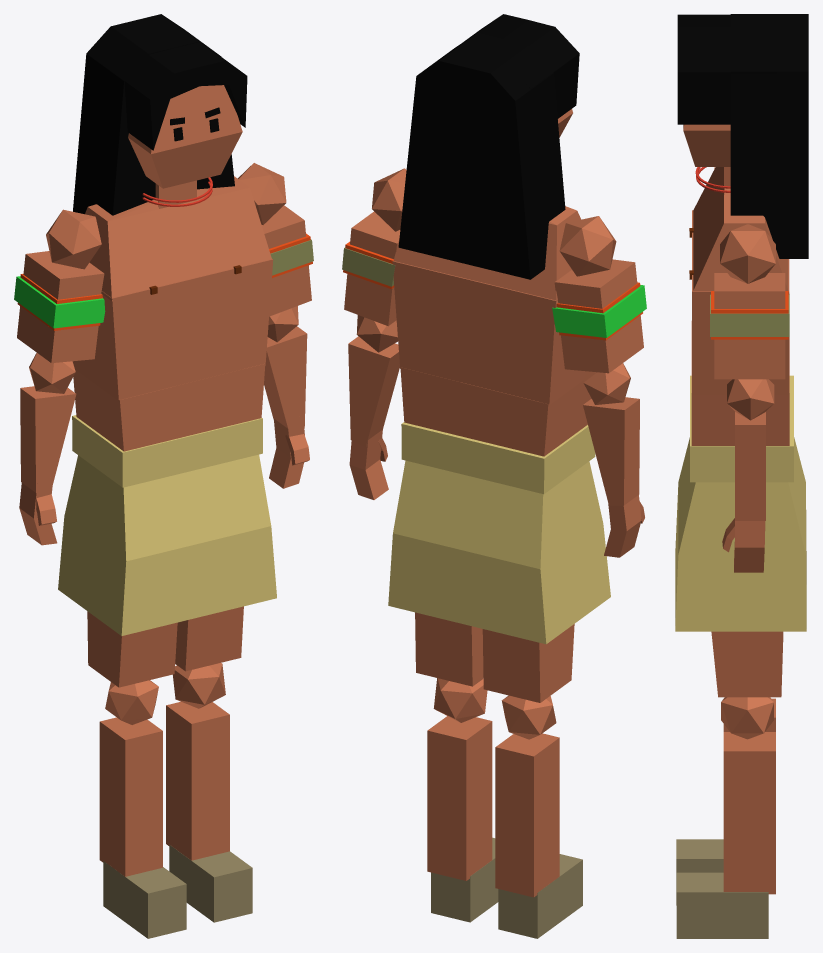
File: DanceWithPig.fbx
3 views of the same model, side by side, from view 1: azimuth 30°, elevation 25°; view 2: azimuth 150°, elevation 25°; view 3: azimuth 270°, elevation 25° (orthographic). The views are drawn at different scales.
Visible parts, largest first — view 1: Cube.030, Cube.001, Cube.005, Cube.025, Cube.002, Cube.014, Cube.021, Cube.029, Cube, Cube.024, Cube.022, Cube.016 (+18 smaller); view 2: Cube.025, Cube.030, Cube.001, Cube.014, Cube.021, Cube.002, Cube.029, Cube.022, Cube.020, Cube.023, Cube.007, Cube.013 (+16 smaller); view 3: Cube.025, Cube.030, Cube.014, Cube.024, Cube.015, Cube.009, Cube.013, Cube.005, Cube.002, Cube.007, Cube.029, Cube.001 (+8 smaller).
Boxes of the visible parts, x1=… form: Cube.030: x1=58, y1=454, x2=276, y2=635; Cube.001: x1=72, y1=259, x2=273, y2=400; Cube.005: x1=85, y1=176, x2=271, y2=300; Cube.025: x1=73, y1=14, x2=234, y2=215; Cube.002: x1=73, y1=363, x2=265, y2=451; Cube.014: x1=166, y1=701, x2=229, y2=860; Cube.021: x1=99, y1=717, x2=162, y2=876; Cube.029: x1=72, y1=415, x2=262, y2=487; Cube: x1=128, y1=85, x2=242, y2=188; Cube.024: x1=102, y1=42, x2=247, y2=150; Cube.022: x1=17, y1=251, x2=104, y2=363; Cube.016: x1=103, y1=861, x2=186, y2=938; Cube.025: x1=398, y1=32, x2=565, y2=279; Cube.030: x1=388, y1=460, x2=610, y2=644; Cube.001: x1=392, y1=261, x2=586, y2=404; Cube.014: x1=427, y1=716, x2=492, y2=880; Cube.021: x1=495, y1=733, x2=559, y2=897; Cube.002: x1=400, y1=367, x2=591, y2=456; Cube.029: x1=401, y1=422, x2=595, y2=494; Cube.022: x1=554, y1=259, x2=643, y2=373; Cube.020: x1=482, y1=624, x2=574, y2=702; Cube.023: x1=583, y1=397, x2=639, y2=505; Cube.007: x1=348, y1=336, x2=399, y2=446; Cube.013: x1=415, y1=612, x2=483, y2=686; Cube.025: x1=730, y1=14, x2=808, y2=258; Cube.030: x1=675, y1=437, x2=806, y2=631; Cube.014: x1=723, y1=732, x2=775, y2=894; Cube.024: x1=677, y1=14, x2=776, y2=124; Cube.015: x1=676, y1=872, x2=768, y2=938; Cube.009: x1=714, y1=273, x2=785, y2=379; Cube.013: x1=711, y1=631, x2=783, y2=697; Cube.005: x1=693, y1=167, x2=788, y2=290; Cube.002: x1=691, y1=321, x2=789, y2=445; Cube.007: x1=735, y1=412, x2=765, y2=520; Cube.029: x1=690, y1=375, x2=793, y2=482; Cube.001: x1=692, y1=210, x2=789, y2=394.
Bounding box in the file's own units: 57.23 × 172 × 23.46.
